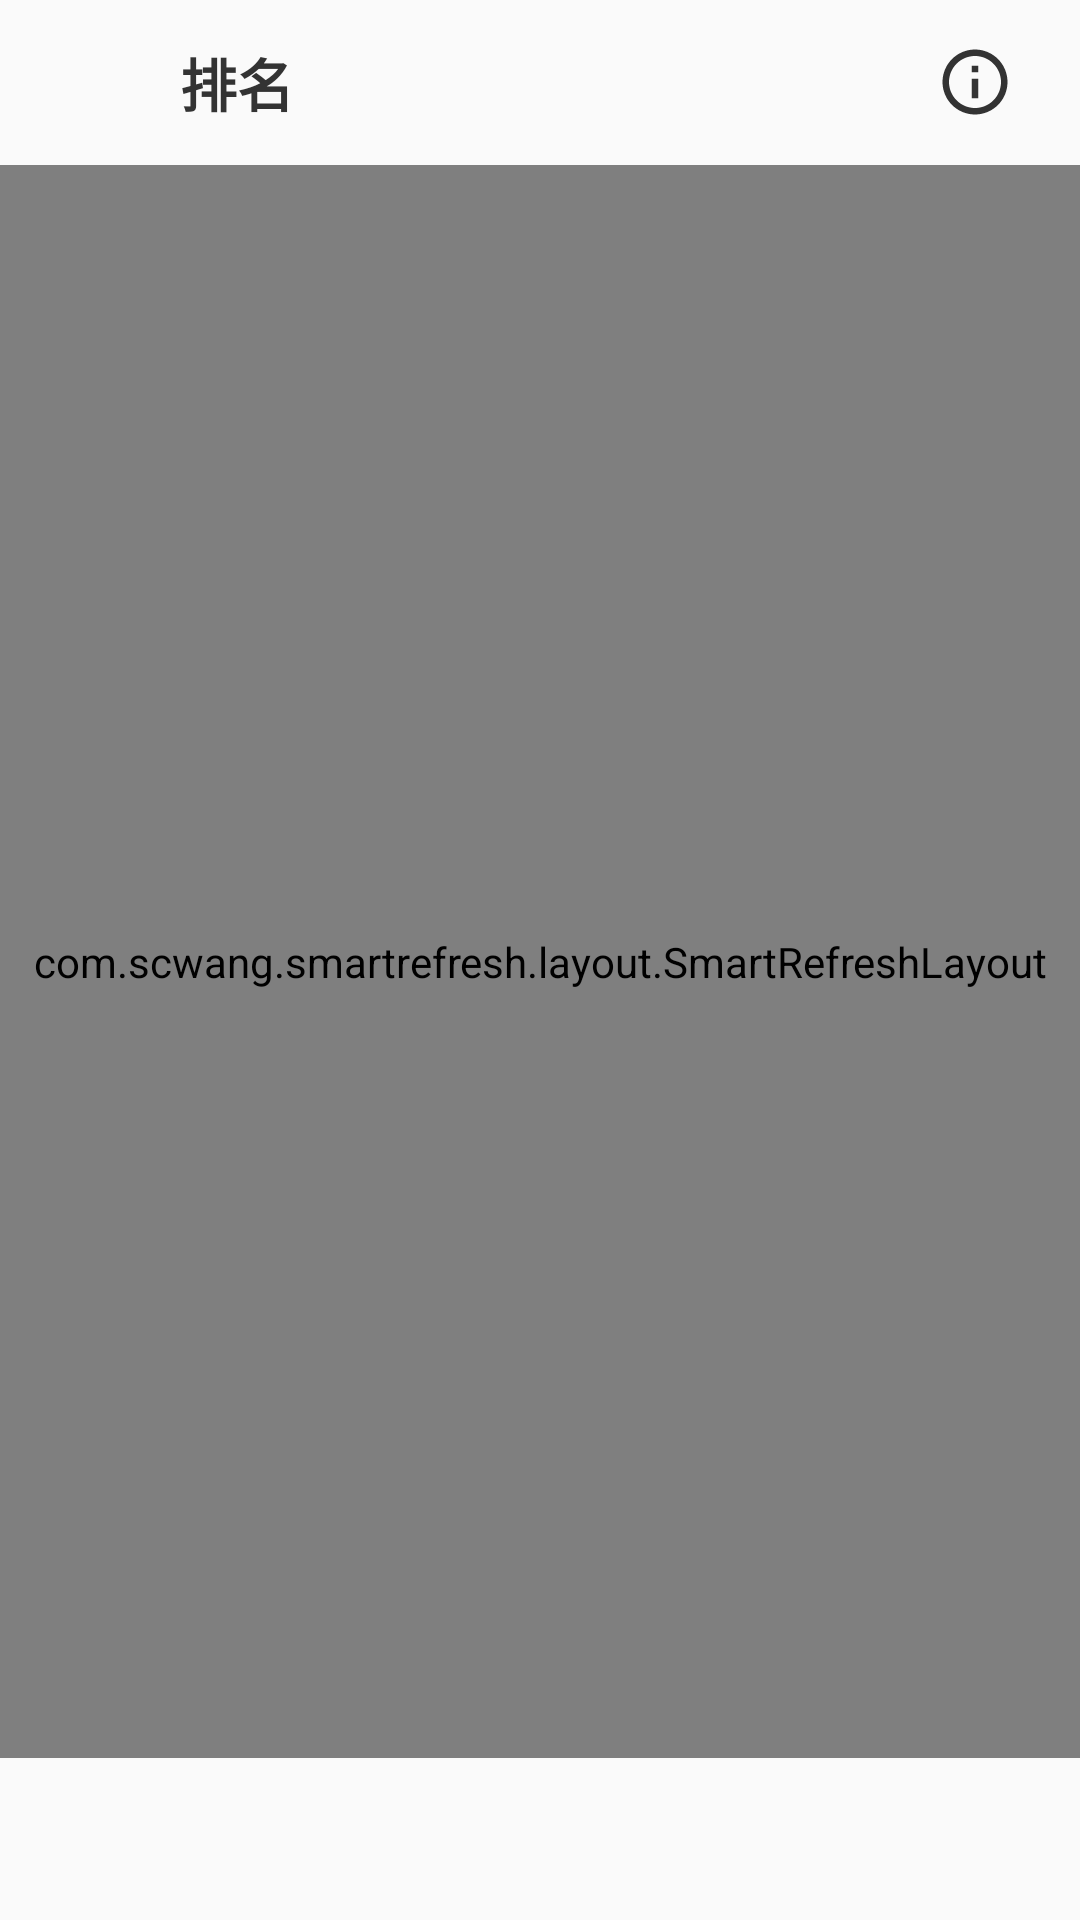

Icons on this 1080px×1920px Android screen, each with the point to tap as (x,y):
info: (975,82)
